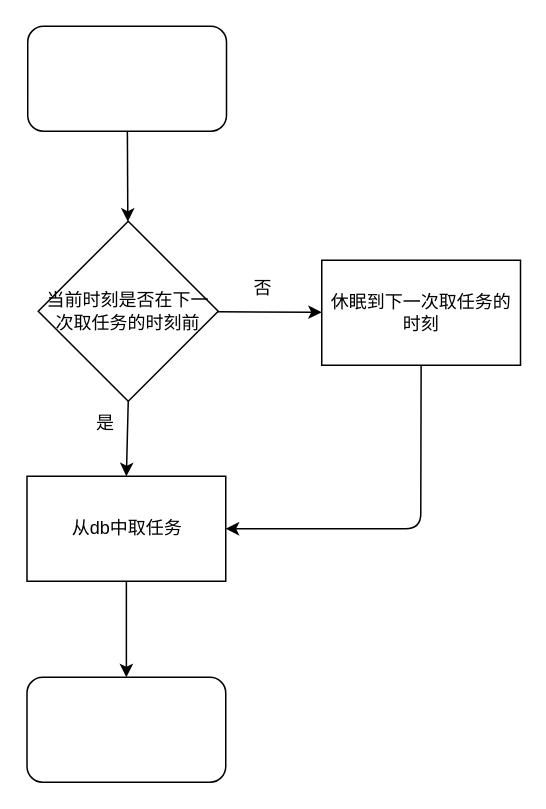
This 546x809 diagram has some shape labels left out. Each missing label, with the box of its shape:
startFetch: (26, 25, 226, 131)
按定时间隔循环取任务: (26, 676, 226, 782)
